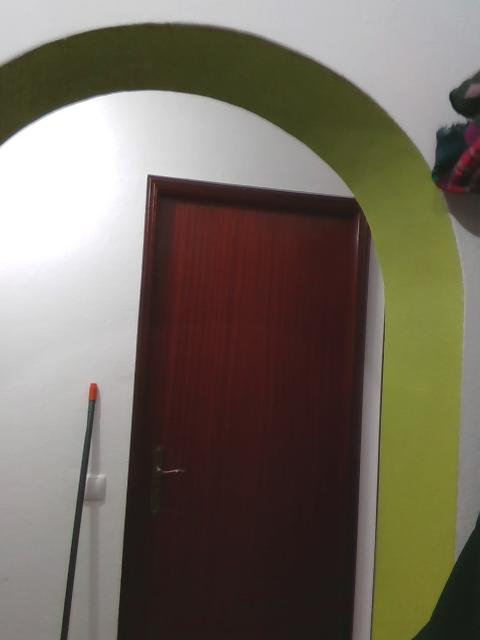closed_door: (116, 174, 367, 639)
